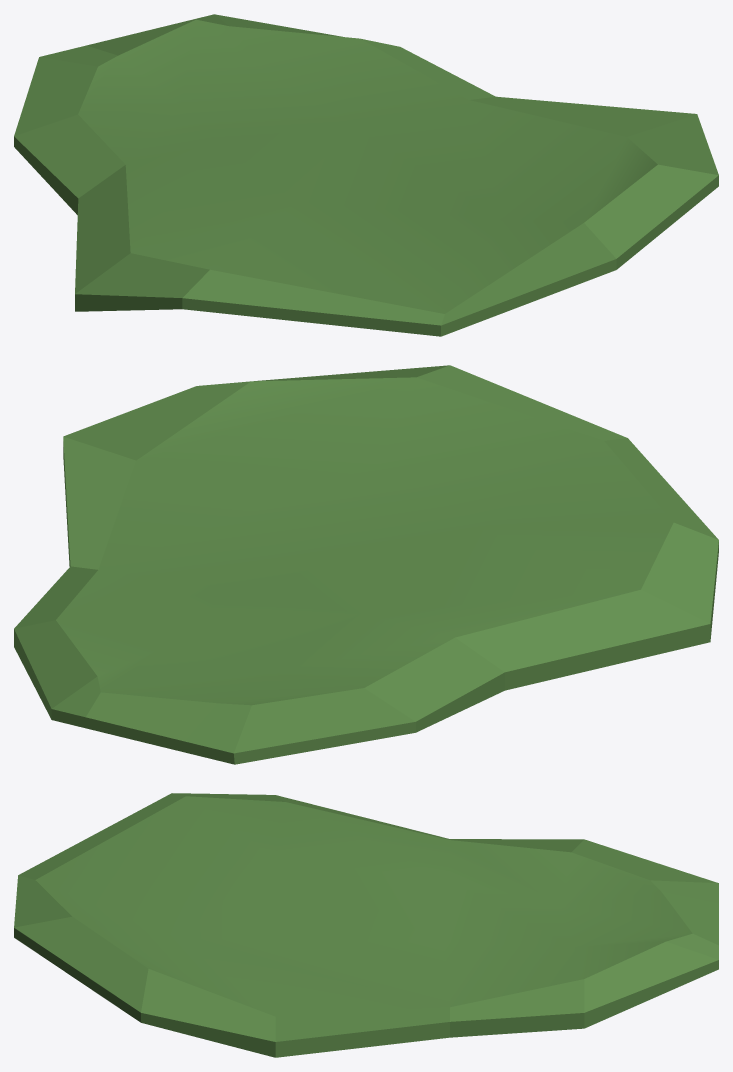
File: Letuce.fbx
3 views of the same model, one above another, from view 1: azimuth 30°, elevation 25°; view 2: azimuth 150°, elevation 25°; view 3: azimuth 270°, elevation 25° (orthographic). The views are drawn at different scales.
Visible parts, largest first — view 1: Letuce; view 2: Letuce; view 3: Letuce.
Part boxes in pixels (box(x1,y1,x2,y2)): Letuce: box(14, 14, 718, 336); Letuce: box(14, 365, 718, 764); Letuce: box(14, 793, 718, 1057).
Bounding box in the file's own units: 1.2 × 0.1384 × 1.31.
